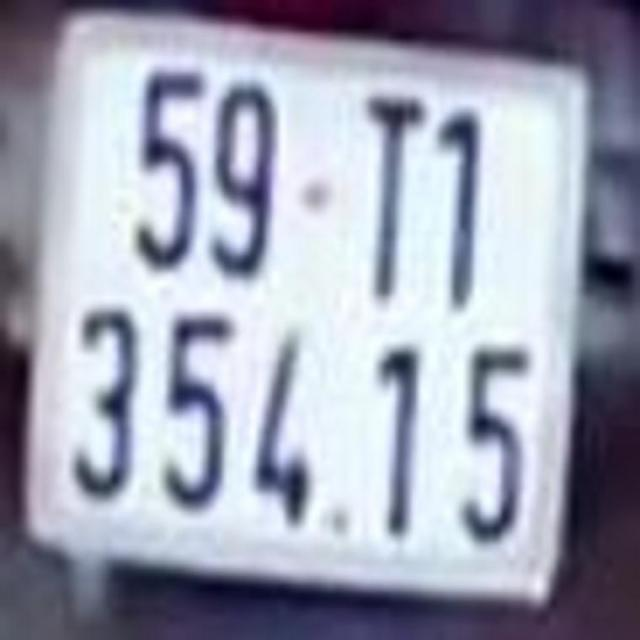1: (437, 101, 477, 306), (379, 338, 417, 537)
3: (77, 304, 134, 497)
4: (258, 325, 313, 528)
5: (456, 342, 529, 540), (139, 70, 202, 268), (169, 311, 227, 504)
9: (211, 80, 272, 274)
T: (365, 91, 421, 306)
